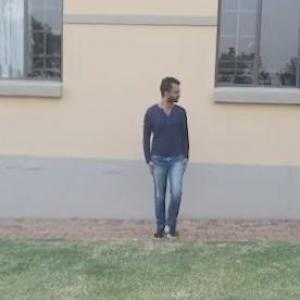follow: (144, 75, 192, 237)
